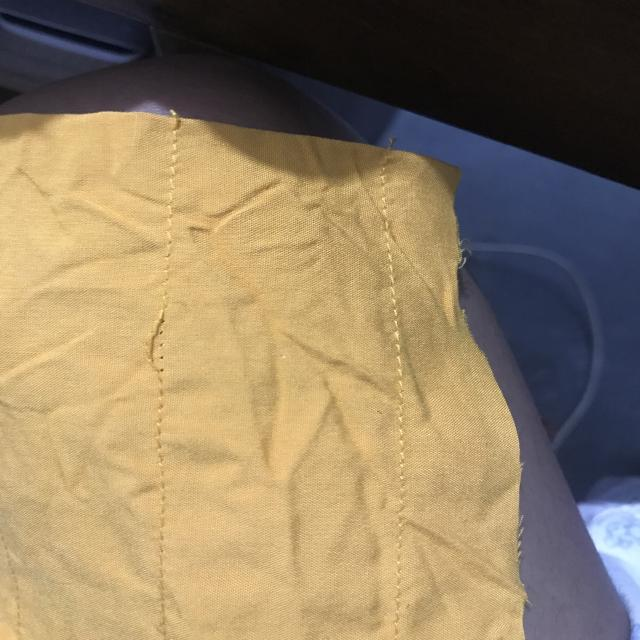good: (155, 156, 187, 253)
skip: (130, 289, 183, 387)
